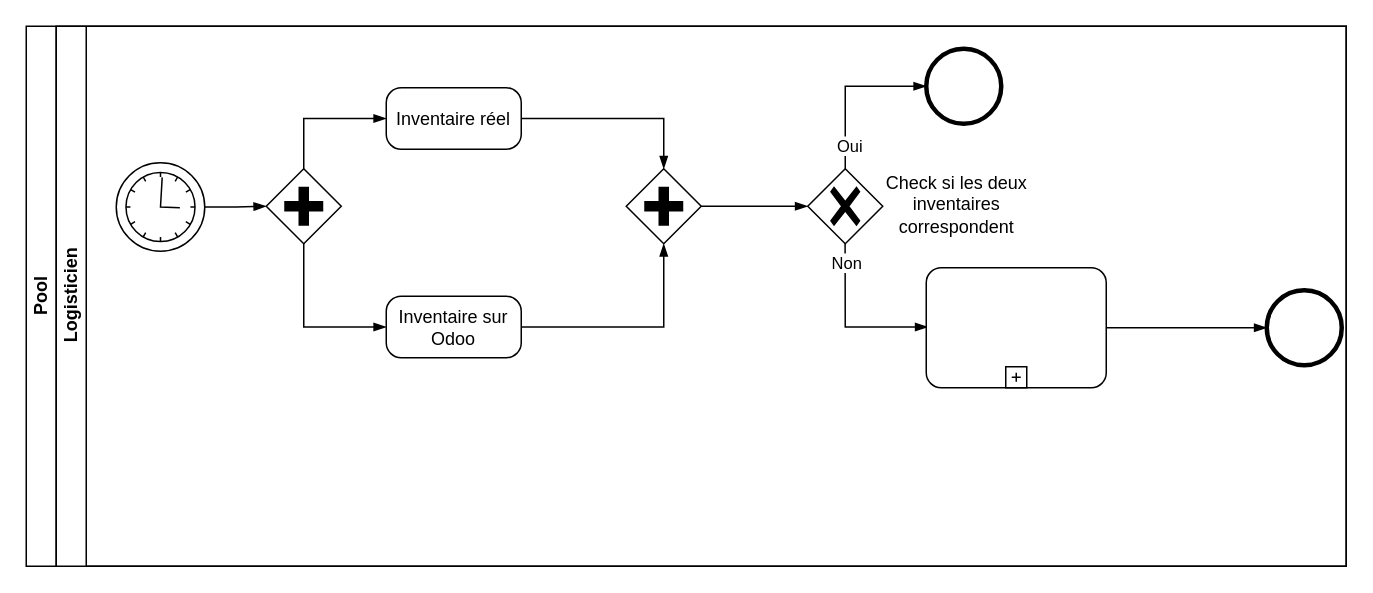
Image size: 1373x593. Some labels were removed from this diagram. The centre of each missing label's shape, as x and y in pixels:
BPMN Reassort: the point at 1015,327
Chaque 14 jours: the point at 160,206
